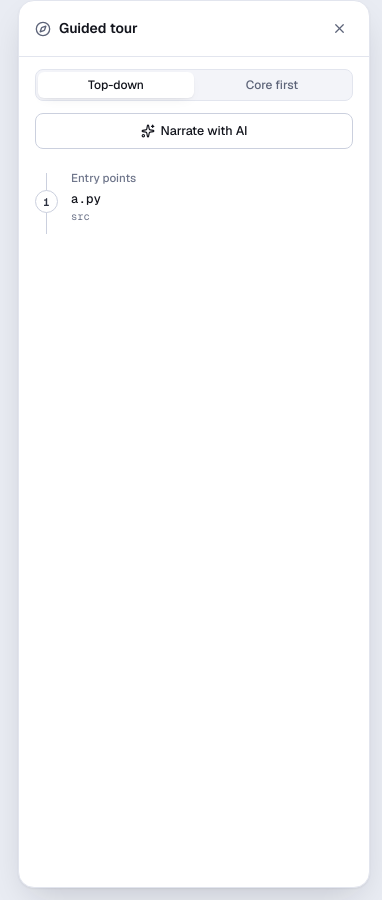
GuidedTour › changing direction clears narration so it can't describe the wrong stops
Click the button "Narrate with AI" at (194, 131), box [35, 113, 353, 149]
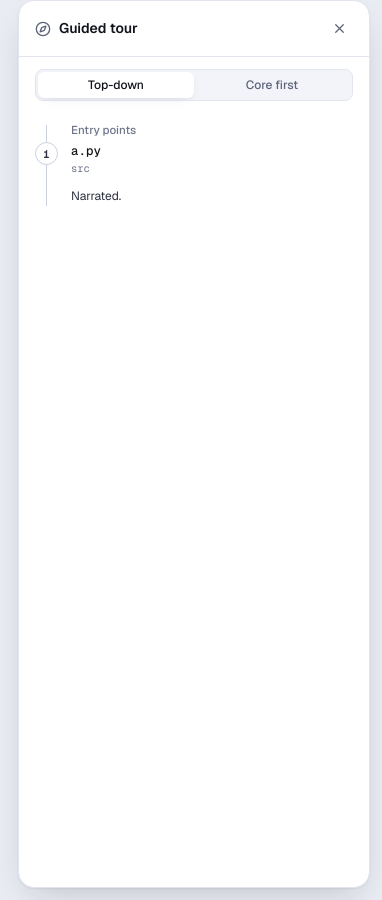
Expected: the text "Narrated." is shown, [71, 188, 121, 204]
Click the button "Core first" at (272, 85), box [194, 72, 350, 98]
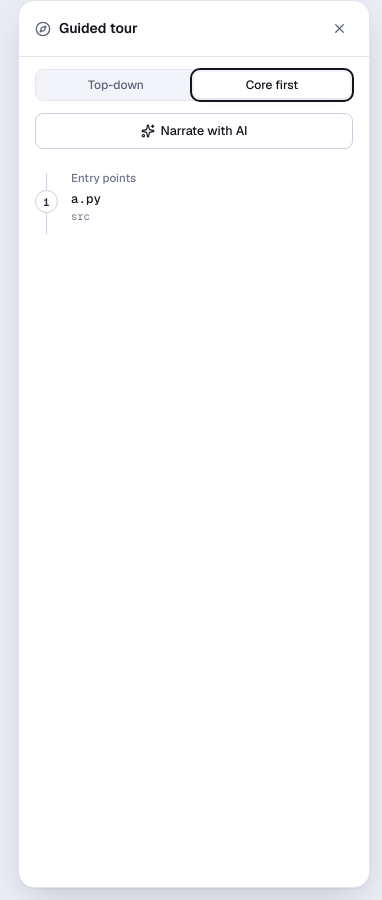
Expected: the button "Narrate with AI" is shown, [35, 113, 353, 149]
Expected: the text "Narrated." is gone
